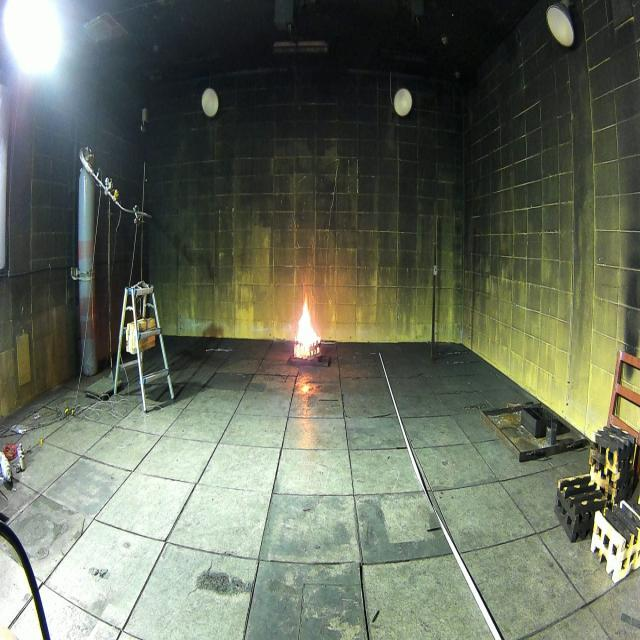Fire: (294, 292, 321, 359)
